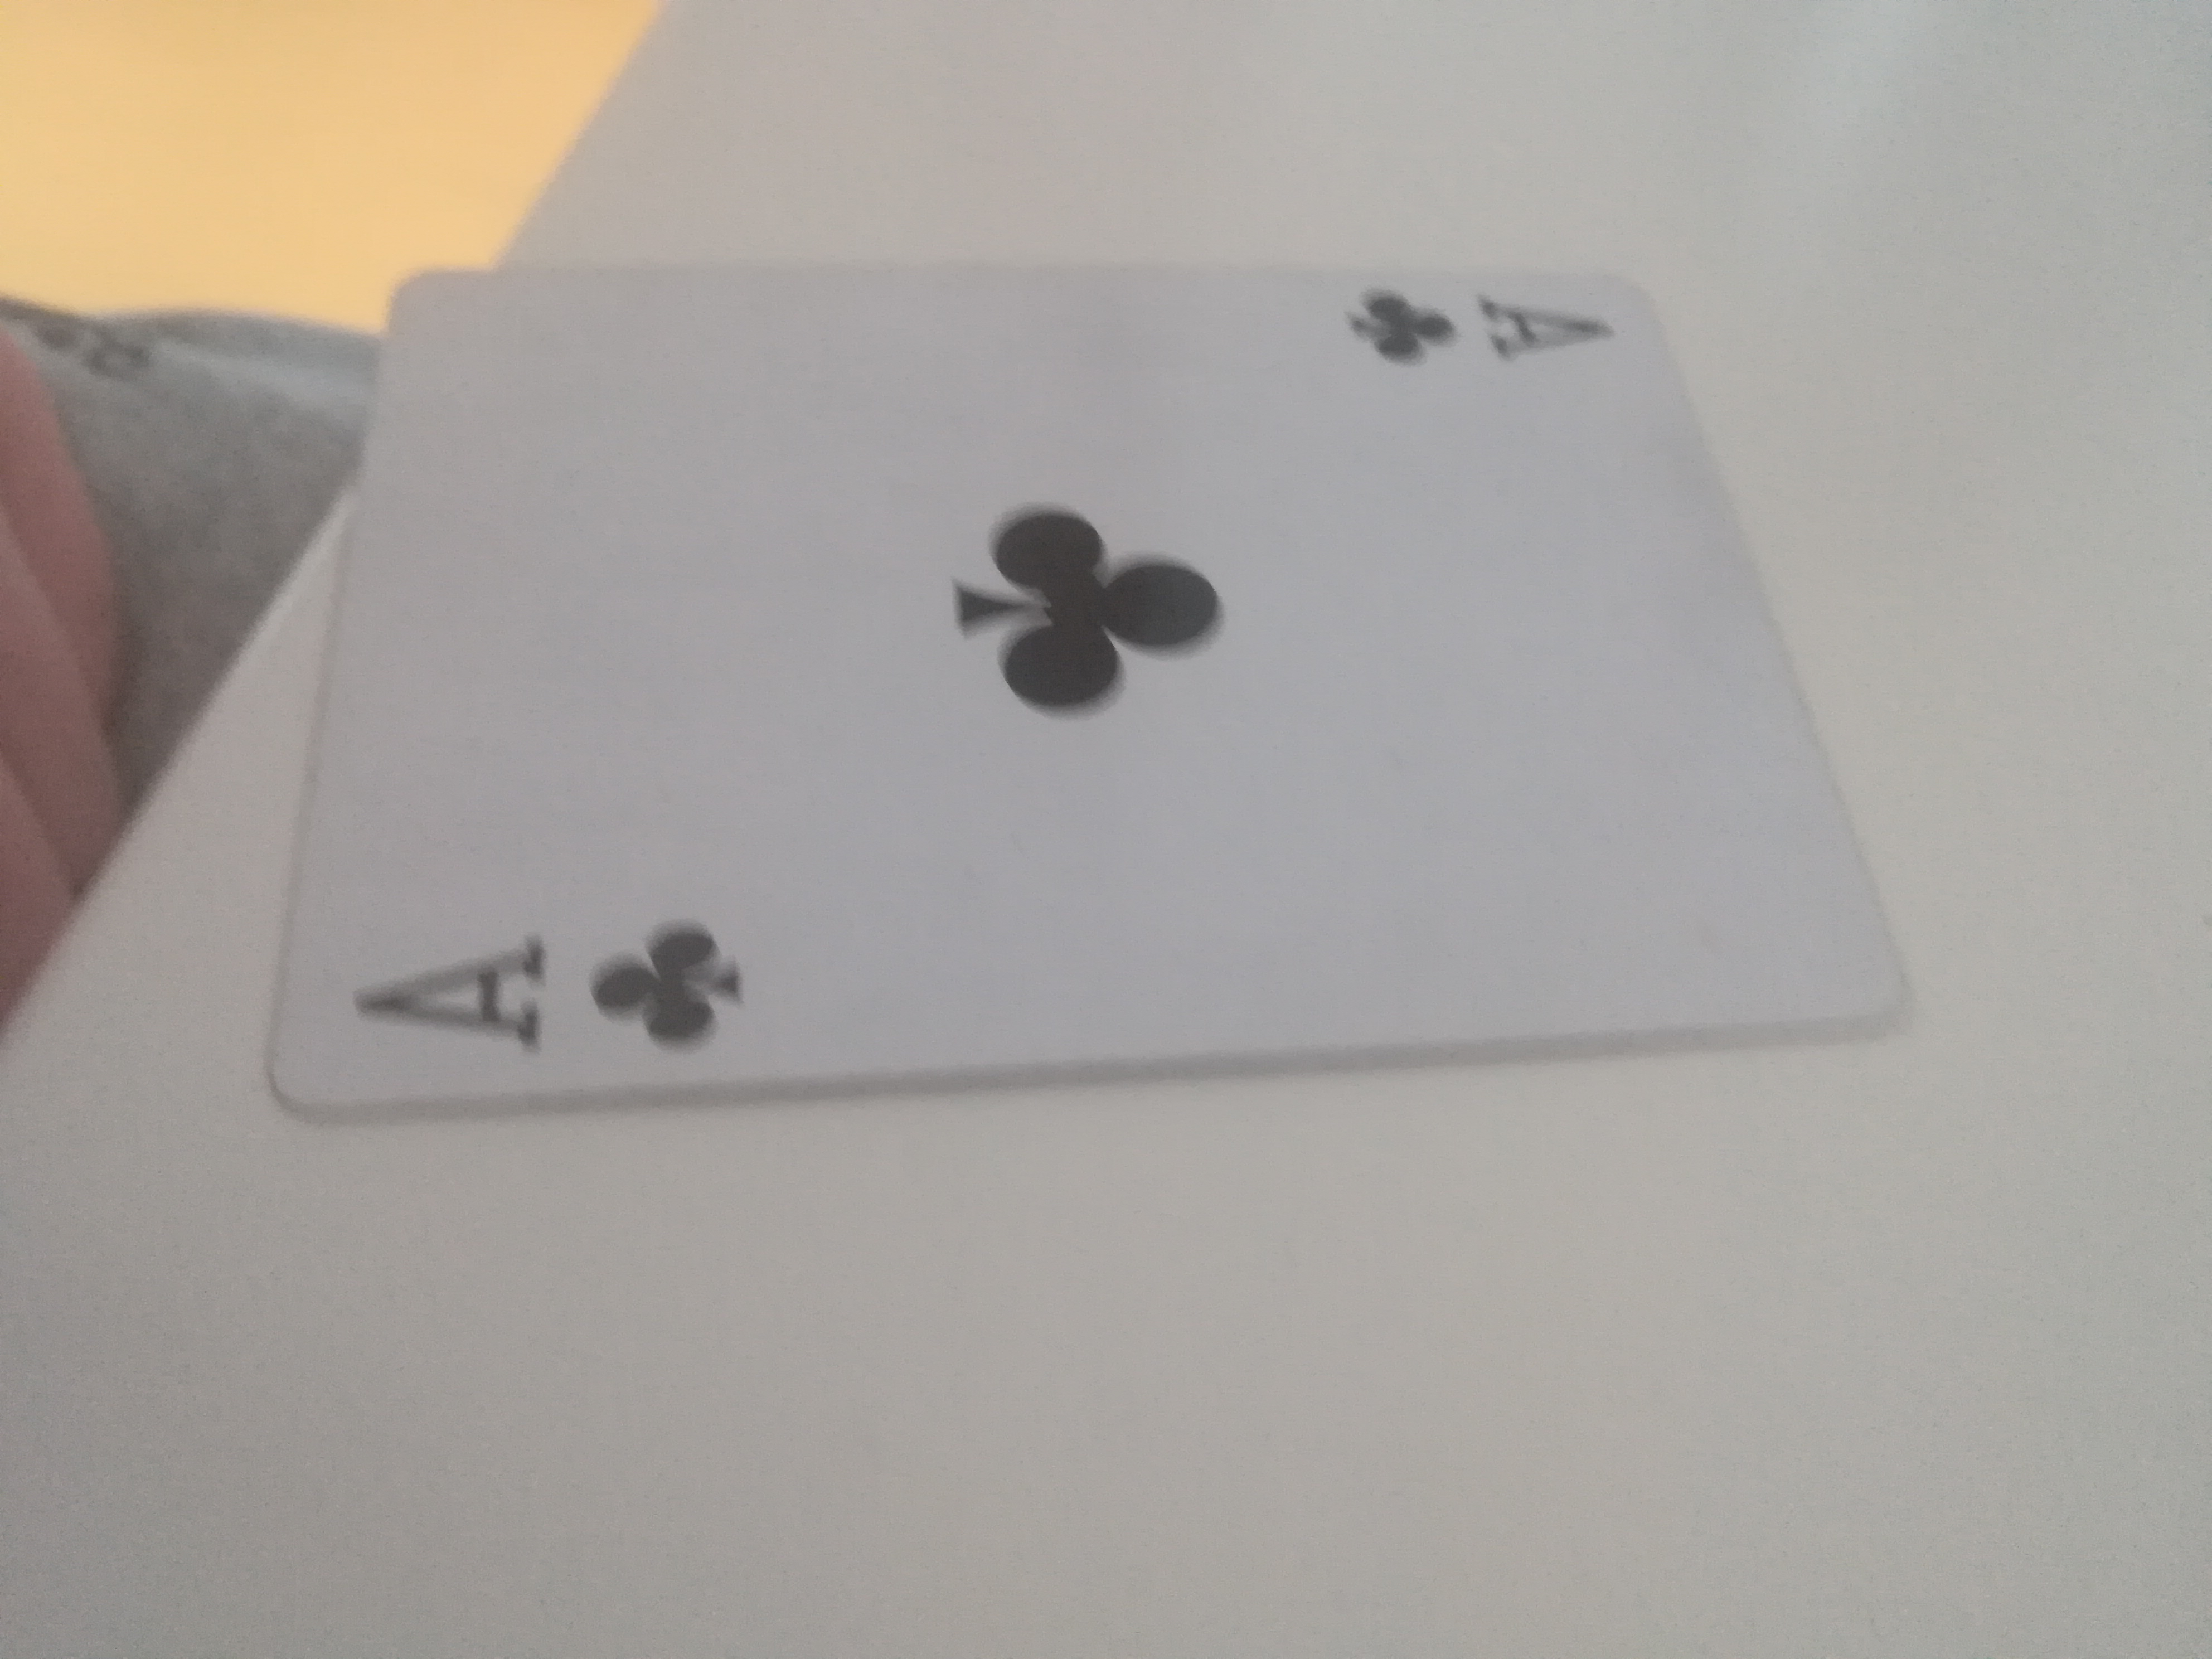AC: (272, 277, 1921, 1145)
